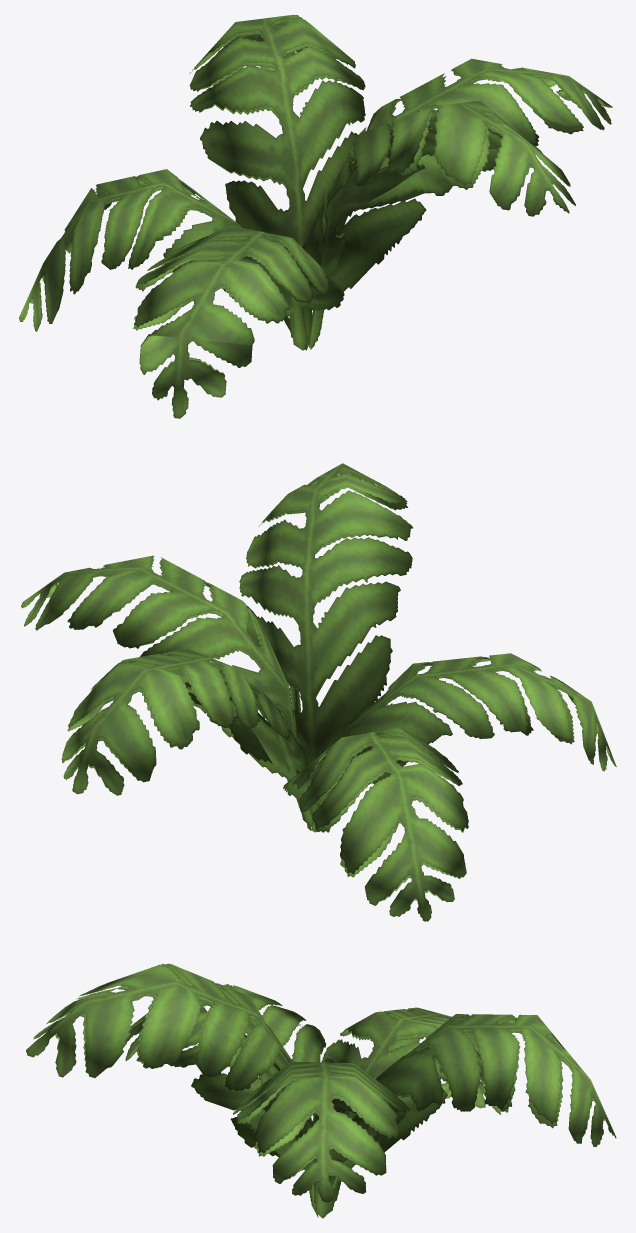
Rendered from fern.FBX.
3 renders of one model, top to bottom at view 1: azimuth 30°, elevation 25°; view 2: azimuth 150°, elevation 25°; view 3: azimuth 270°, elevation 25°, orthographic. The views are drawn at different scales.
Parts seen in each view (by area): view 1: FERN; view 2: FERN; view 3: FERN.
Part boxes in pixels (<box>): FERN: <box>19,14,612,418</box>; FERN: <box>21,463,616,921</box>; FERN: <box>26,963,616,1218</box>.
Bounding box in the file's own units: 1.61 × 0.818 × 1.62.
Materials: 1 (1 with a texture image).
